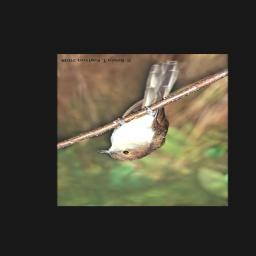Cuckoo: (98, 60, 180, 161)
